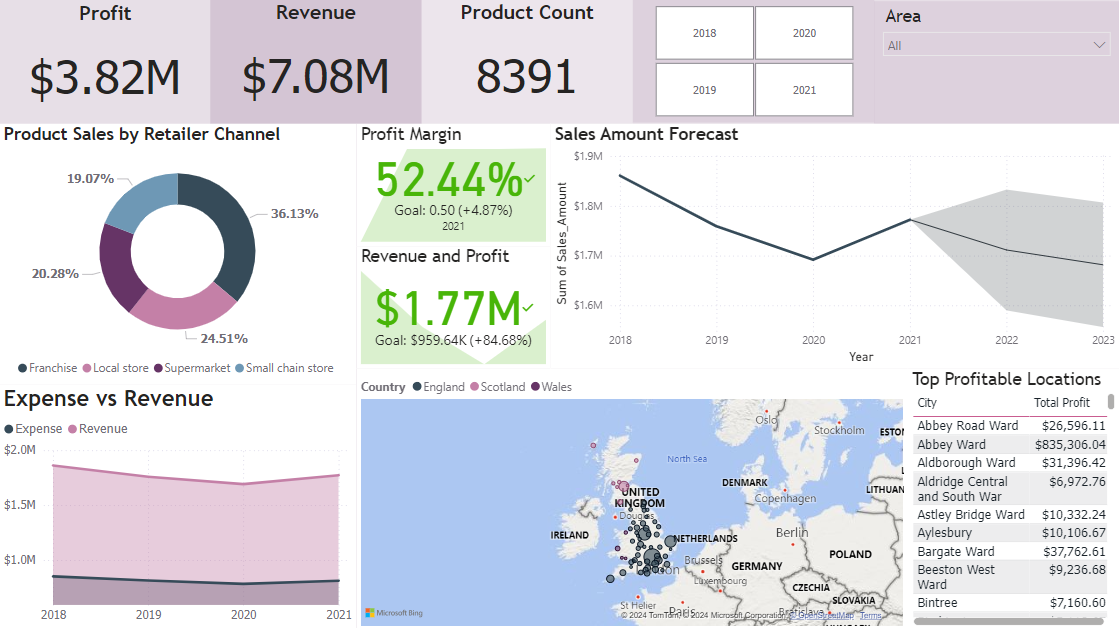

Layout of this report page (visuals, bound fields, positions):
{"tool":"powerbi","page":{"name":"CEO","canvas":[1280,720],"ordinal":3},"visuals":[{"type":"areaChart","title":"Expense vs Revenue","fields":{"Y":["Sum(Orders.Cost_of_Goods_Sold)","Sum(Orders.Sales_Amount)"],"Category":["Orders.Order_Date.Variation.Date Hierarchy.Year","Orders.Order_Date.Variation.Date Hierarchy.Quarter","Orders.Order_Date.Variation.Date Hierarchy.Month","Orders.Order_Date.Variation.Date Hierarchy.Day"]},"box":[0,440,408.3,280],"z":0},{"type":"card","title":"Profit","fields":{"Values":["Sum(Orders.Profit)"]},"box":[1.4,1.4,240,140],"z":1000},{"type":"card","title":"Revenue","fields":{"Values":["Sum(Orders.Sales_Amount)"]},"box":[241.4,0,241.4,141.4],"z":2000},{"type":"card","title":"Product Count","fields":{"Values":["CountNonNull(Orders.Order_ID)"]},"box":[482.9,0,241.4,141.4],"z":3000},{"type":"slicer","fields":{"Values":["Orders.Order_Date.Variation.Date Hierarchy.Year"]},"box":[723.8,0,276.2,140],"z":4000},{"type":"donutChart","title":"Product Sales by Retailer Channel","fields":{"Category":["Retailers.Retailer_Channel","Products.Product_Category"],"Y":["CountNonNull(Orders.Order_ID)"]},"box":[0,141.7,408.3,298.3],"z":5000},{"type":"map","fields":{"Category":["Retailers.Region"],"Series":["Retailers.Country"],"Size":["Sum(Orders.Profit)"]},"box":[408.3,421.7,630,298.3],"z":6000},{"type":"slicer","fields":{"Values":["Retailers.Area"]},"box":[1000,1.2,280,140],"z":7000},{"type":"tableEx","title":"Top Profitable Locations","fields":{"Values":["Retailers.City","Sum(Orders.Profit)"]},"box":[1038.3,421.7,241.7,298.3],"z":8000},{"type":"lineChart","title":"Sales Amount Forecast","fields":{"Category":["Orders.Order_Date.Variation.Date Hierarchy.Year","Orders.Order_Date.Variation.Date Hierarchy.Quarter","Orders.Order_Date.Variation.Date Hierarchy.Month","Orders.Order_Date.Variation.Date Hierarchy.Day"],"Y":["Sum(Orders.Sales_Amount)"]},"box":[630,141.7,650,280],"z":9000},{"type":"kpi","title":"Profit Margin","fields":{"TrendLine":["Orders.Order_Date.Variation.Date Hierarchy.Year"],"Goal":["Orders.Profit Margin"],"Indicator":["Avg(Orders.Profit_Margin)"]},"box":[408.3,141.7,221.7,140],"z":10000},{"type":"kpi","title":"Revenue and Profit","fields":{"Indicator":["Sum(Orders.Sales_Amount)"],"Goal":["Sum(Orders.Profit)"],"TrendLine":["Orders.Order_Date.Variation.Date Hierarchy.Year"]},"box":[408.3,281.7,221.7,140],"z":11000}]}

Visuals, with their boxes in screenshot pixels (x1, y1, x2, y2), scaled from the page's 1280x720 canvas onto the 1119x628 screenshot:
"Expense vs Revenue" areaChart: [x1=0, y1=384, x2=357, y2=627]
"Profit" card: [x1=1, y1=1, x2=211, y2=123]
"Revenue" card: [x1=211, y1=0, x2=422, y2=123]
"Product Count" card: [x1=422, y1=0, x2=633, y2=123]
slicer - Orders.Order_Date.Variation.Date Hierarchy.Year: [x1=633, y1=0, x2=874, y2=122]
"Product Sales by Retailer Channel" donutChart: [x1=0, y1=124, x2=357, y2=384]
map - Retailers.Region x Retailers.Country: [x1=357, y1=368, x2=908, y2=627]
slicer - Retailers.Area: [x1=874, y1=1, x2=1118, y2=123]
"Top Profitable Locations" tableEx: [x1=908, y1=368, x2=1118, y2=627]
"Sales Amount Forecast" lineChart: [x1=551, y1=124, x2=1118, y2=368]
"Profit Margin" kpi: [x1=357, y1=124, x2=551, y2=246]
"Revenue and Profit" kpi: [x1=357, y1=246, x2=551, y2=368]
